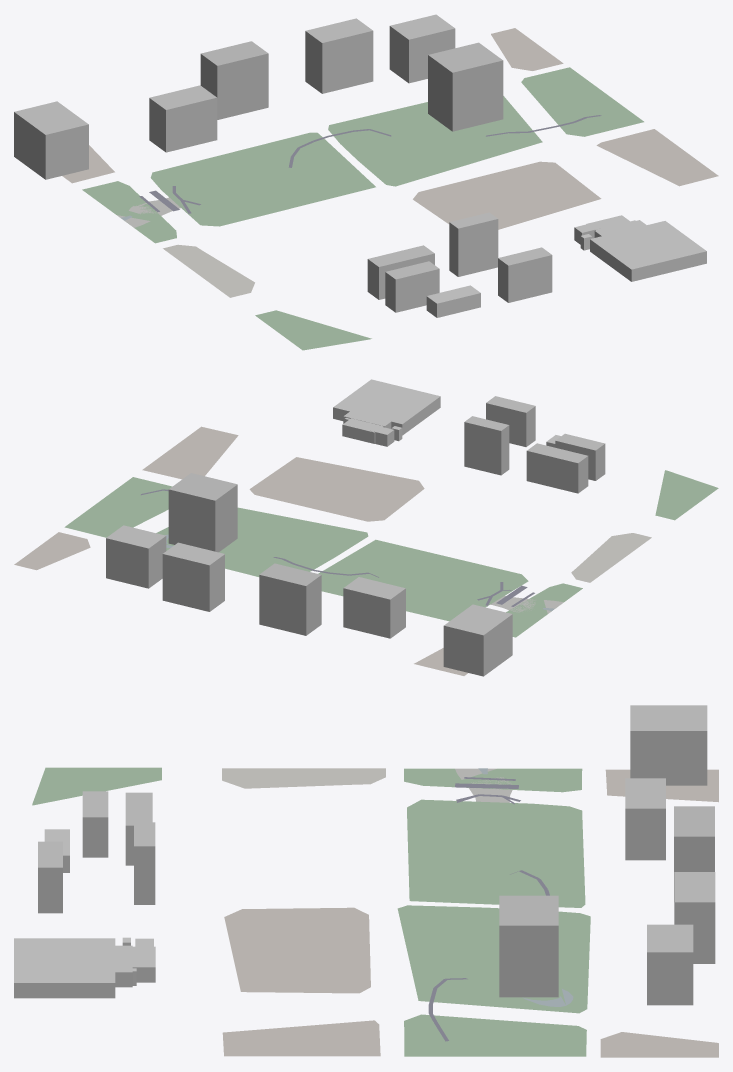
Rendered from 123_84_mid.glb.
The picture shows the model from 3 angles, top to bottom: view 1: azimuth 30°, elevation 25°; view 2: azimuth 150°, elevation 25°; view 3: azimuth 270°, elevation 25°; orthographic projection. The views are drawn at different scales.
Size of the model in its own units: 517 by 59.02 by 513.
